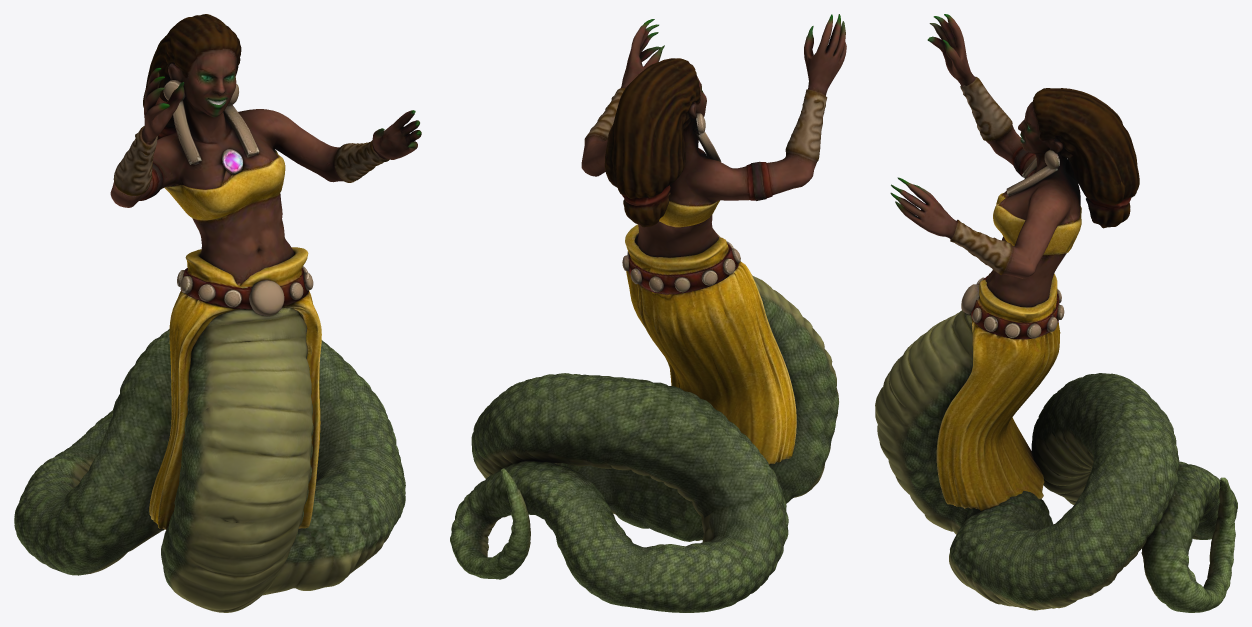
Rendered from MZ4250 - Yuan Ti Malison Female Type 3.glb.
3 renders of one model, left to right at view 1: azimuth 30°, elevation 25°; view 2: azimuth 150°, elevation 25°; view 3: azimuth 270°, elevation 25°, orthographic. The views are drawn at different scales.
Parts seen in each view (by area): view 1: Cube.002; view 2: Cube.002; view 3: Cube.002.
Boxes of the visible parts, x1=… form: Cube.002: x1=14, y1=14, x2=421, y2=612; Cube.002: x1=450, y1=14, x2=846, y2=612; Cube.002: x1=875, y1=14, x2=1237, y2=612.
Bounding box in the file's own units: 0.6499 × 1.07 × 0.7048.
1 material, 1 textured.
